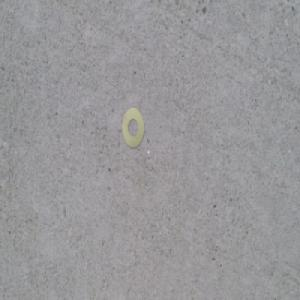Washer: (122, 107, 145, 149)
